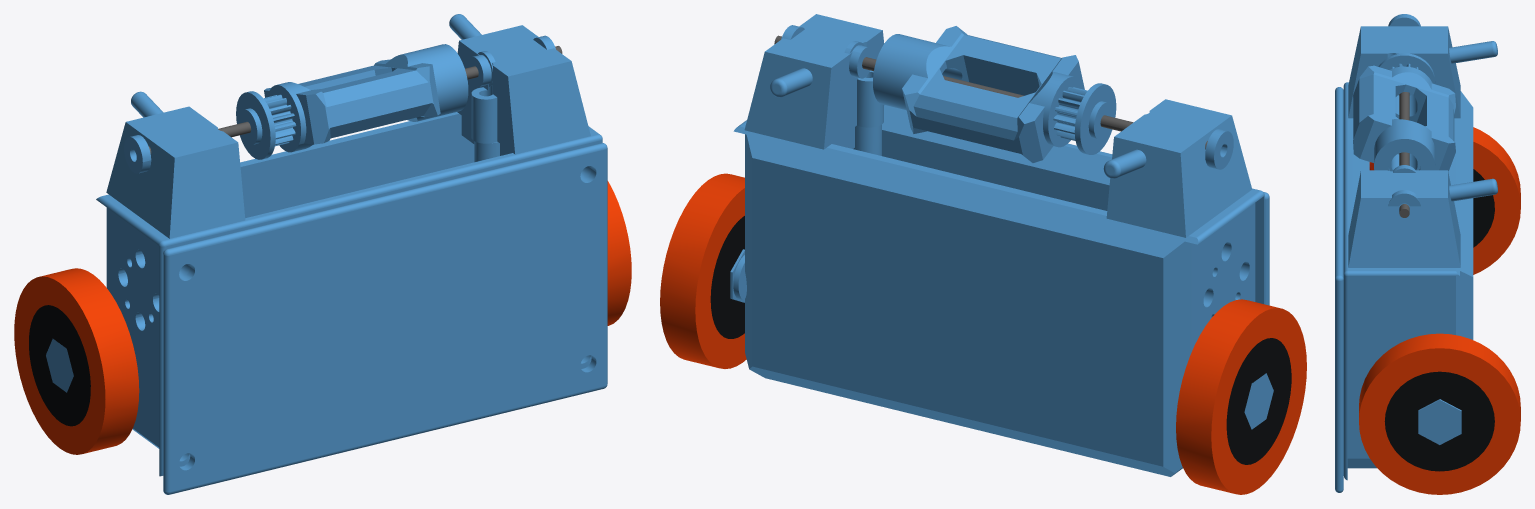
The model's file is FinalAssembly (1).fbx.
3 renders of one model, left to right at view 1: azimuth 30°, elevation 25°; view 2: azimuth 150°, elevation 25°; view 3: azimuth 270°, elevation 25°, orthographic. The views are drawn at different scales.
Visible parts, largest first — view 1: empty_42, empty_26, empty_36, empty_50, empty_10, empty_16, empty_23, empty_45, empty_14, empty_2, empty_41; view 2: empty_26, empty_36, empty_10, empty_50, empty_16, empty_45, empty_42, empty_23, empty_20, empty_14, empty_2, empty_37; view 3: empty_26, empty_45, empty_16, empty_36, empty_20, empty_50, empty_10, empty_42, empty_11, empty_23, empty_37, empty_39 (+1 smaller).
Part boxes in pixels (box(x1,y1,x2,y2)): empty_42: box(163, 143, 607, 494); empty_26: box(96, 112, 602, 476); empty_36: box(236, 44, 468, 159); empty_50: box(106, 91, 245, 238); empty_10: box(14, 268, 139, 454); empty_16: box(449, 14, 590, 154); empty_23: box(29, 305, 90, 426); empty_45: box(607, 181, 631, 325); empty_14: box(46, 338, 73, 392); empty_2: box(124, 135, 151, 173); empty_41: box(468, 51, 495, 86); empty_26: box(733, 105, 1264, 476); empty_36: box(873, 26, 1116, 162); empty_10: box(1176, 299, 1306, 494); empty_50: box(1103, 99, 1252, 237); empty_16: box(744, 14, 884, 149); empty_45: box(660, 173, 746, 368); empty_42: box(882, 134, 1269, 305); empty_23: box(1226, 338, 1291, 464); empty_20: box(710, 216, 744, 338); empty_14: box(1244, 373, 1273, 429); empty_2: box(1205, 129, 1233, 169); empty_37: box(774, 35, 1207, 149); empty_26: box(1343, 82, 1473, 480); empty_45: box(1359, 333, 1520, 494); empty_16: box(1348, 170, 1497, 267); empty_36: box(1353, 53, 1455, 171); empty_20: box(1384, 371, 1494, 471); empty_50: box(1348, 26, 1497, 118); empty_10: box(1473, 127, 1520, 274); empty_42: box(1335, 87, 1343, 492); empty_11: box(1418, 399, 1461, 444); empty_23: box(1473, 169, 1494, 247); empty_37: box(1399, 92, 1409, 217); empty_39: box(1388, 190, 1420, 206).
Bounding box in the file's own units: 159 × 100 × 54.64.
